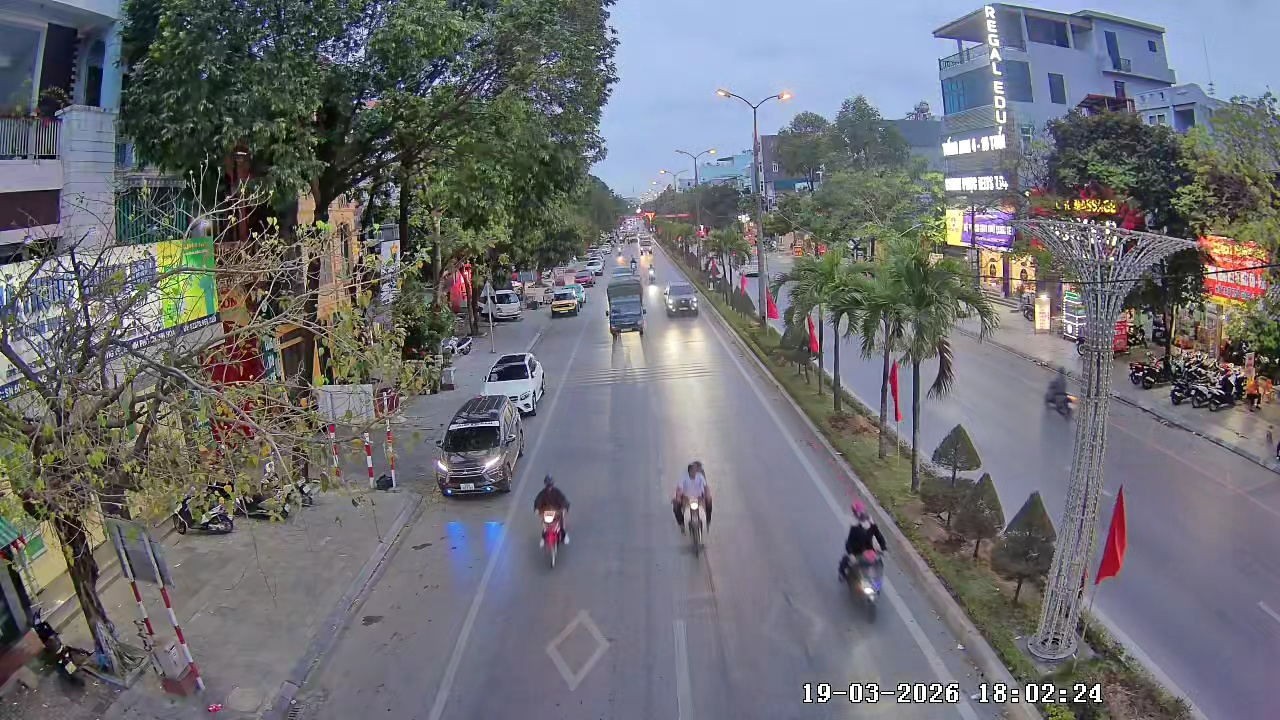car: (434, 394, 526, 498), (483, 350, 547, 417), (662, 282, 700, 319), (549, 281, 584, 317)
motorbike: (835, 503, 889, 622), (669, 458, 715, 553), (530, 471, 573, 570), (1043, 367, 1075, 420)
truck: (605, 280, 647, 334)
